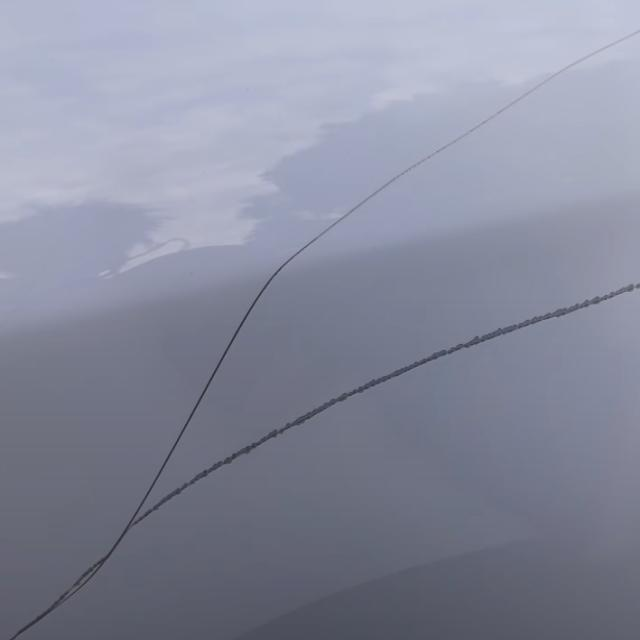crack: (224, 43, 588, 365), (191, 256, 640, 491)
